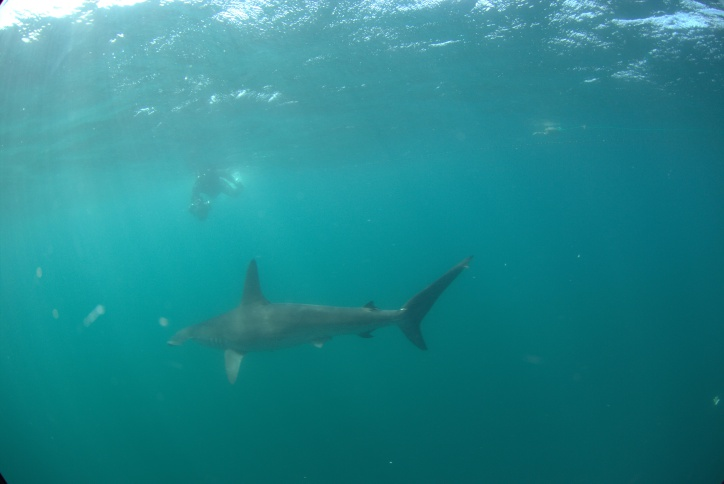Hammer: (147, 237, 503, 376)
